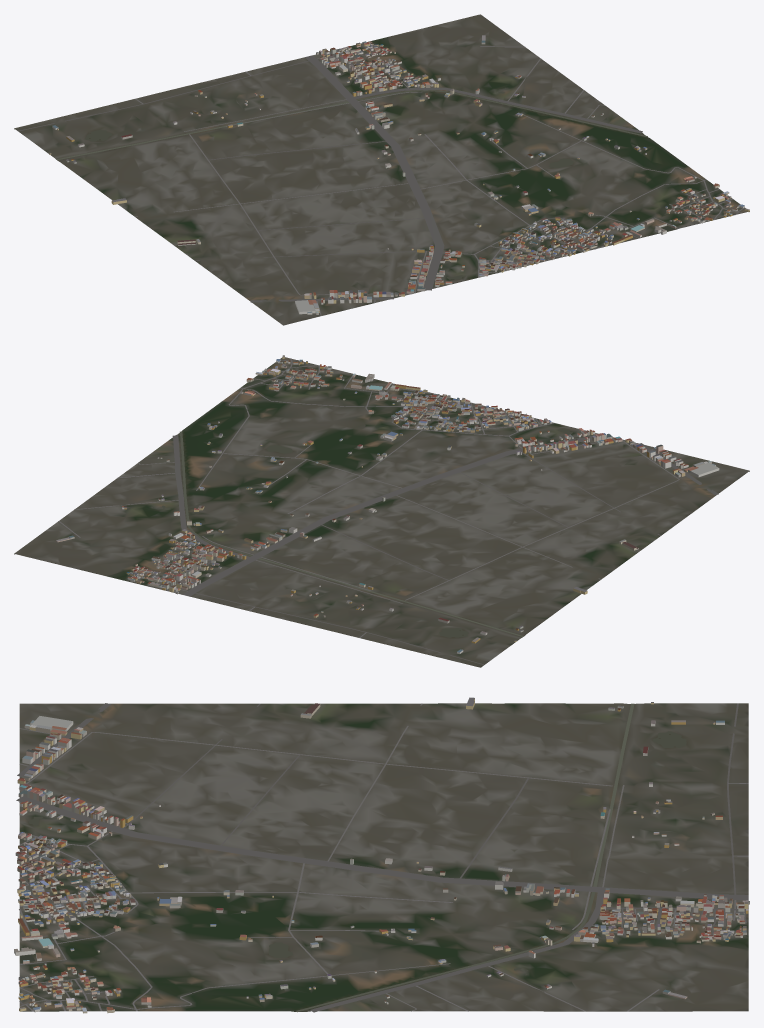
The picture shows the model from 3 angles, top to bottom: view 1: azimuth 30°, elevation 25°; view 2: azimuth 150°, elevation 25°; view 3: azimuth 270°, elevation 25°; orthographic projection. The views are drawn at different scales.
Parts seen in each view (by area): view 1: ground, buildings, roads, water; view 2: ground, buildings, roads, water; view 3: ground, buildings, roads, water.
Boxes of the visible parts, box(x1,y1,x2,y2) form: ground: box(14, 14, 749, 325); buildings: box(49, 35, 749, 314); roads: box(18, 45, 744, 315); water: box(56, 87, 675, 279); ground: box(14, 357, 749, 667); buildings: box(56, 355, 719, 653); roads: box(58, 358, 718, 664); water: box(151, 375, 572, 637); ground: box(19, 703, 748, 1011); buildings: box(14, 697, 749, 1013); roads: box(16, 703, 748, 1012); water: box(20, 703, 686, 1012).
Size of the model in its own units: 1423 by 23.78 by 1415.
